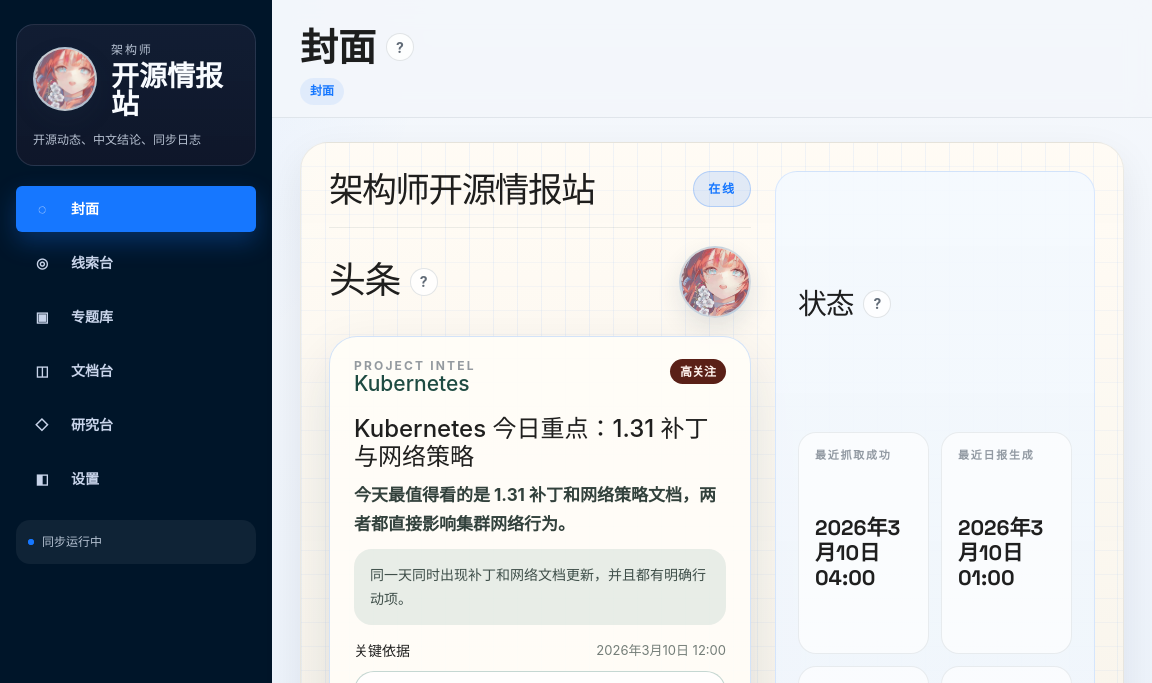
it: App › renders the clue desk and current job block
Click the button "◎ 线索台" at (136, 263), box x1=16 y1=240 x2=256 y2=286
(page scrolled)
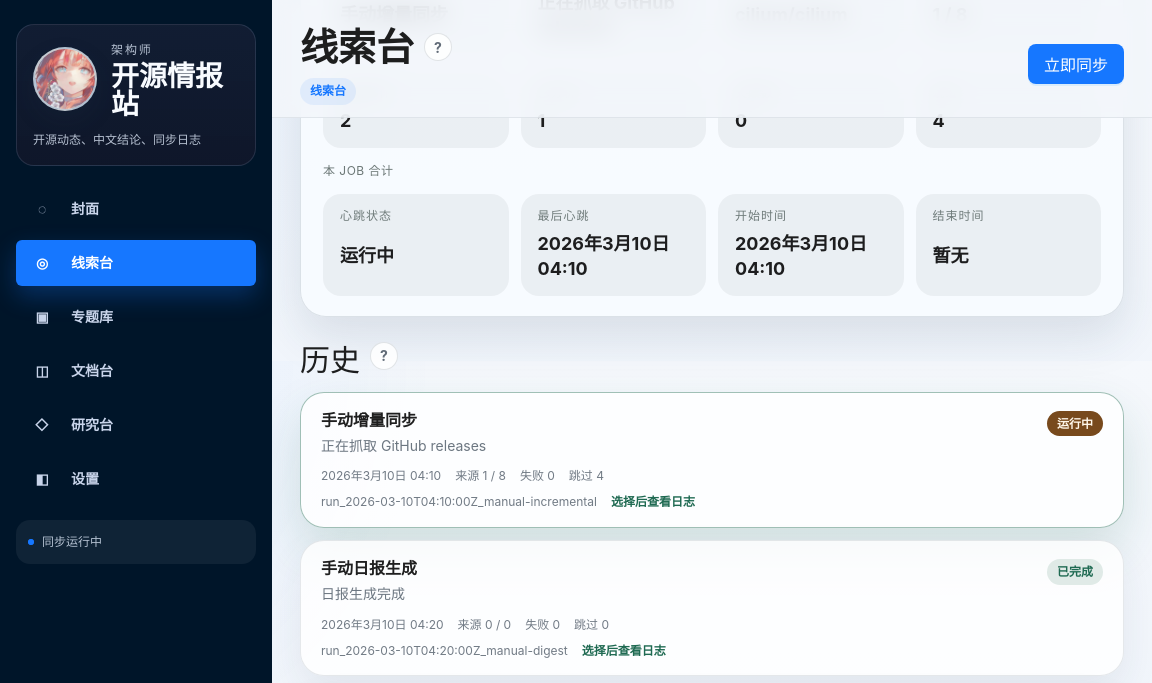
Check: the heading "线索台" is shown, box x1=300 y1=24 x2=414 y2=70
Check: the button named "线索台说明" is shown, box x1=424 y1=33 x2=452 y2=61
Check: the heading "历史" is shown, box x1=300 y1=343 x2=360 y2=378
